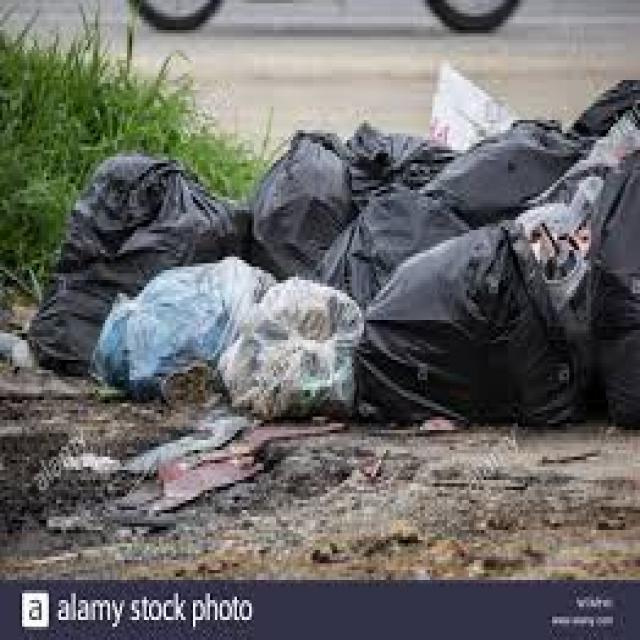plastic_bag: (360, 198, 597, 421), (43, 148, 255, 294), (246, 114, 351, 268)
